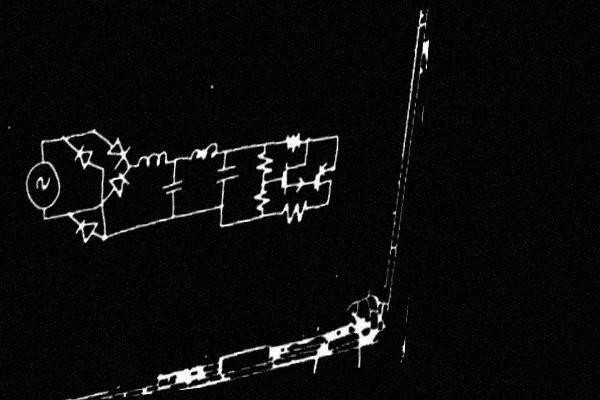capacitor: (213, 158, 242, 192), (160, 175, 184, 200)
diode: (103, 129, 134, 172), (72, 211, 100, 249), (105, 168, 132, 203), (71, 140, 94, 173)
inductor: (131, 148, 173, 174), (184, 139, 222, 164)
resistor: (275, 196, 314, 228), (277, 128, 308, 158), (252, 145, 277, 182), (250, 183, 273, 217)
signal: (21, 151, 65, 218)
